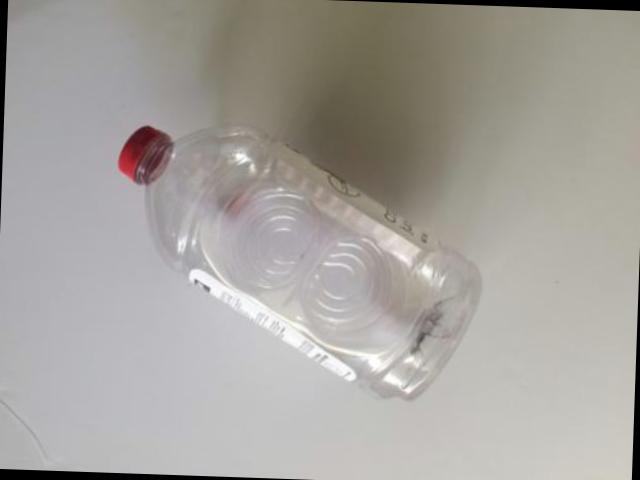plastic: (118, 126, 478, 397)
